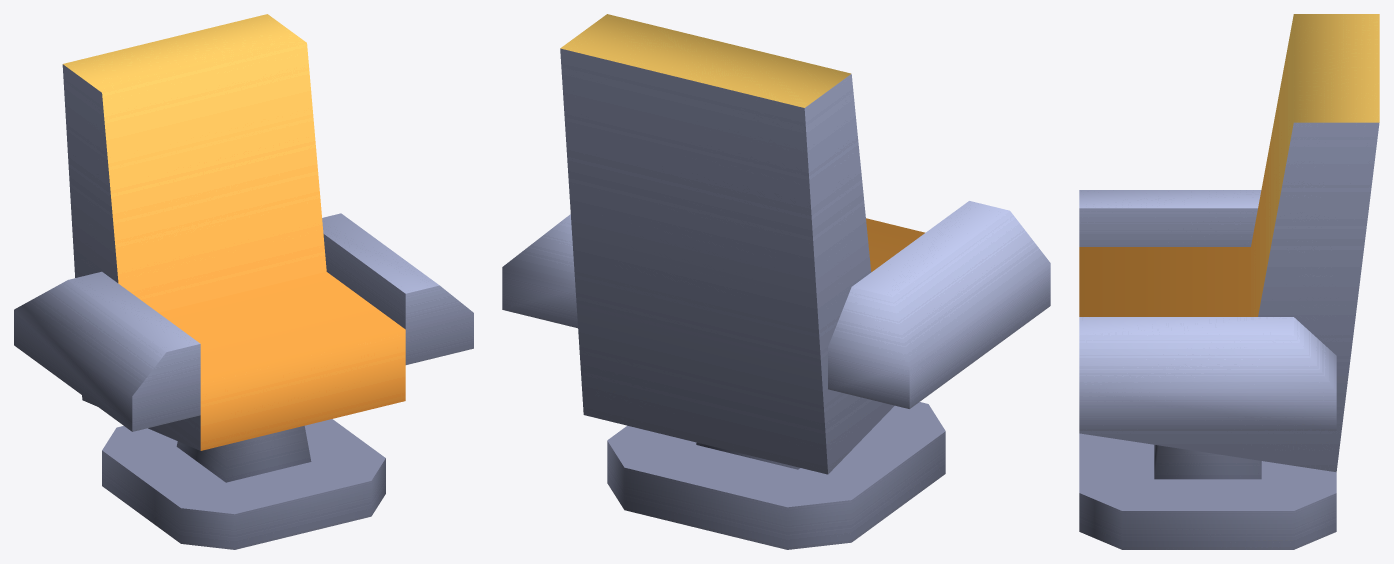
File: chair-armrest.glb
3 views of the same model, side by side, from view 1: azimuth 30°, elevation 25°; view 2: azimuth 150°, elevation 25°; view 3: azimuth 270°, elevation 25° (orthographic). The views are drawn at different scales.
Visible parts, largest first — view 1: chair-armrest; view 2: chair-armrest; view 3: chair-armrest.
Part boxes in pixels (x1,y1,x2,y2): chair-armrest: (14,14,473,549); chair-armrest: (502,14,1050,549); chair-armrest: (1079,14,1379,549).
Size of the model in its own units: 0.5 by 0.55 by 0.35.
Materials: 1 (1 with a texture image).
